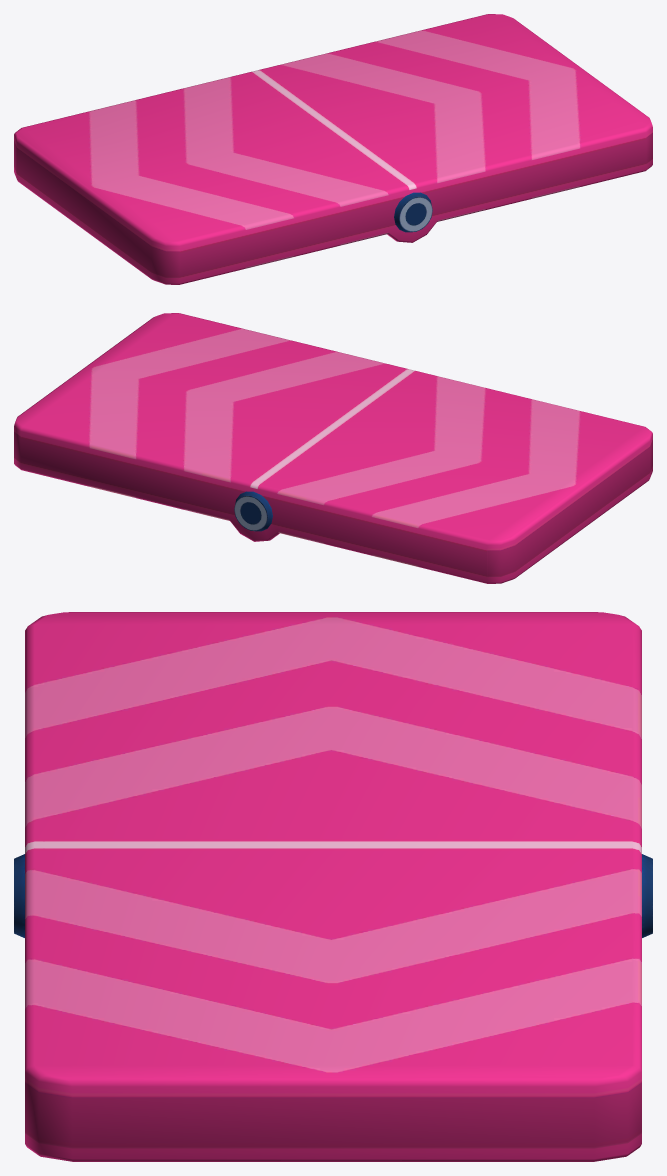
The model's file is toy__seesaw_ugc_b_000_1x1.glb.
3 views of the same model, one above another, from view 1: azimuth 30°, elevation 25°; view 2: azimuth 150°, elevation 25°; view 3: azimuth 270°, elevation 25° (orthographic). The views are drawn at different scales.
Visible parts, largest first — view 1: SeesawPlatfrom_2; view 2: SeesawPlatfrom_2; view 3: SeesawPlatfrom_2.
Part boxes in pixels (left/top/right/bottom): SeesawPlatfrom_2: left=14, top=14, right=652, bottom=284; SeesawPlatfrom_2: left=14, top=313, right=652, bottom=583; SeesawPlatfrom_2: left=14, top=612, right=652, bottom=1161.
Bounding box in the file's own units: 9.02 × 1 × 5.17.
1 material, 1 textured.
